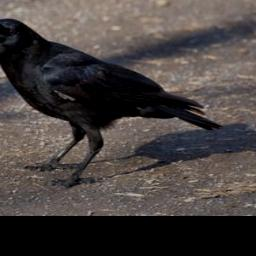Crow: (0, 16, 222, 189)
